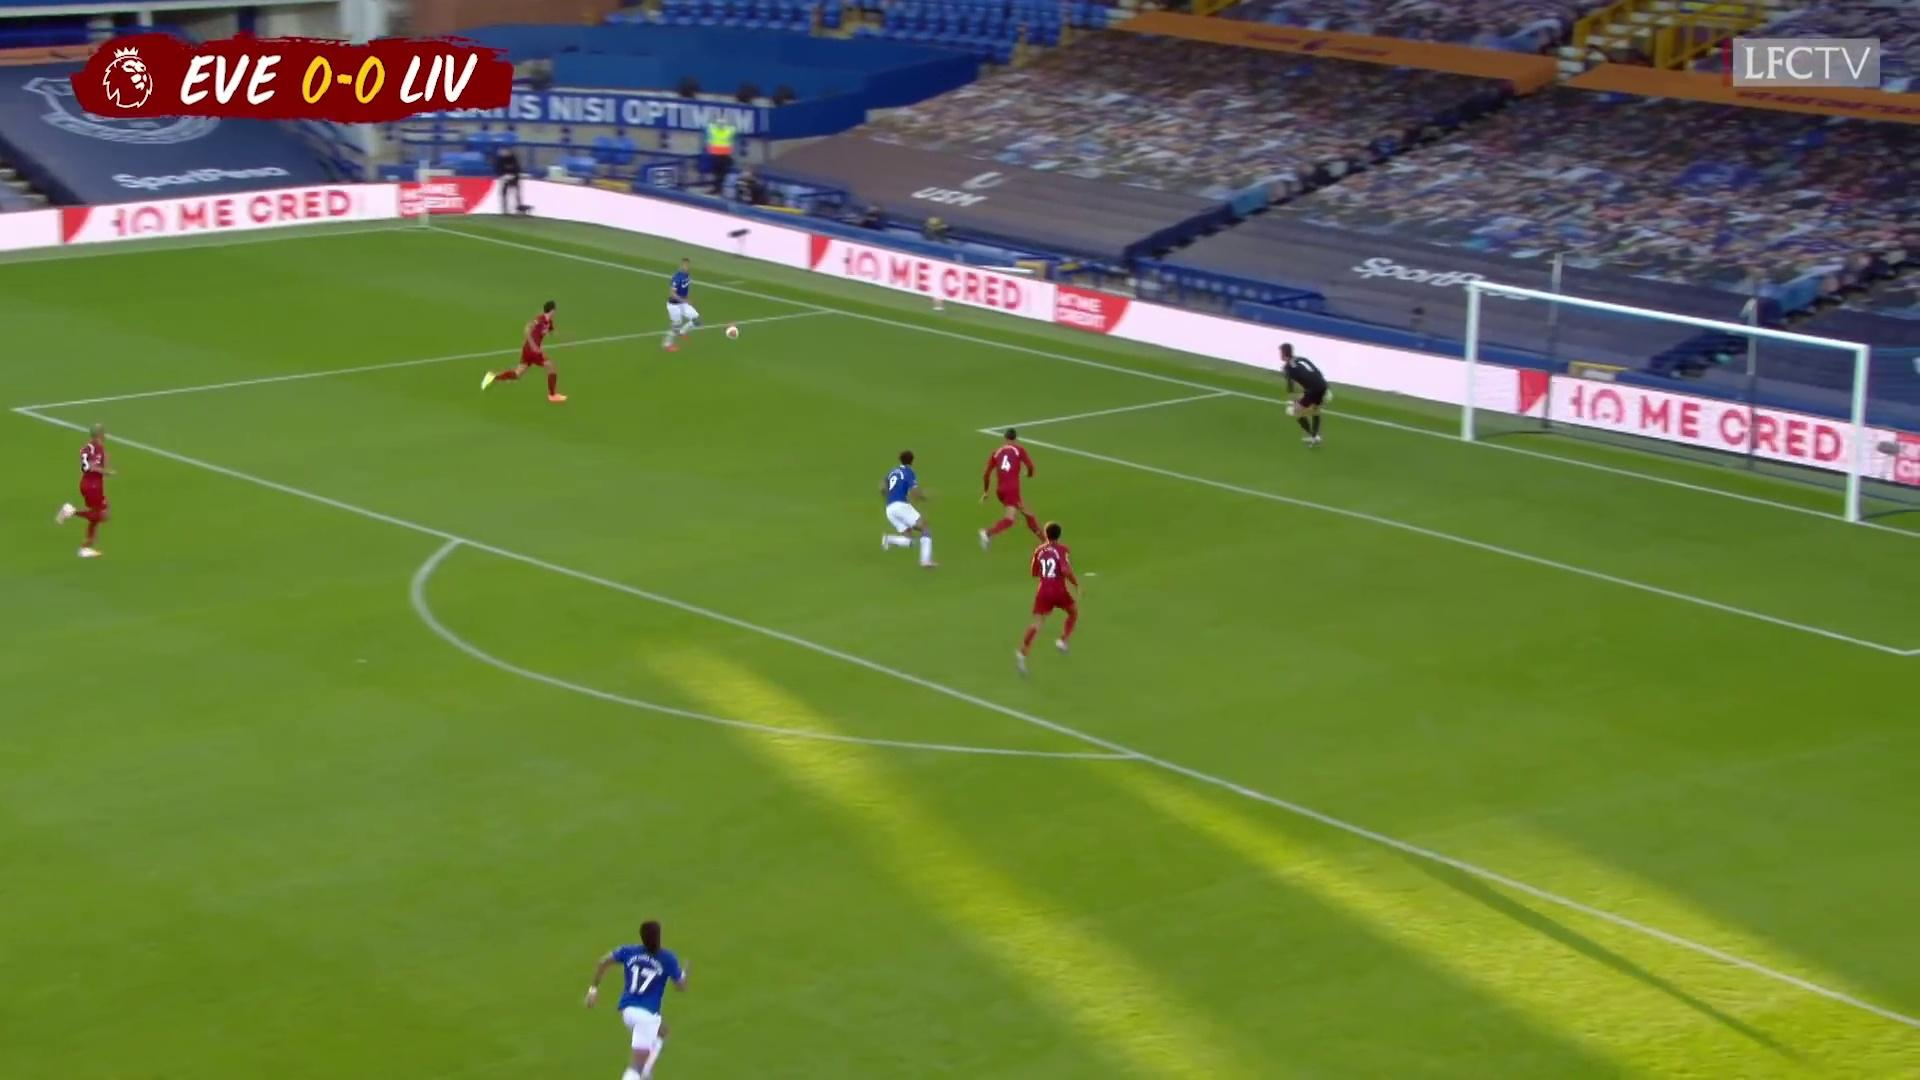ball: (926, 283, 949, 307), (724, 323, 742, 342)
goalkeeper: (1273, 339, 1337, 447)
player: (578, 915, 705, 1080), (1008, 518, 1087, 677), (975, 424, 1062, 558), (479, 298, 570, 403), (53, 418, 119, 561), (876, 445, 946, 575), (660, 255, 704, 356)
